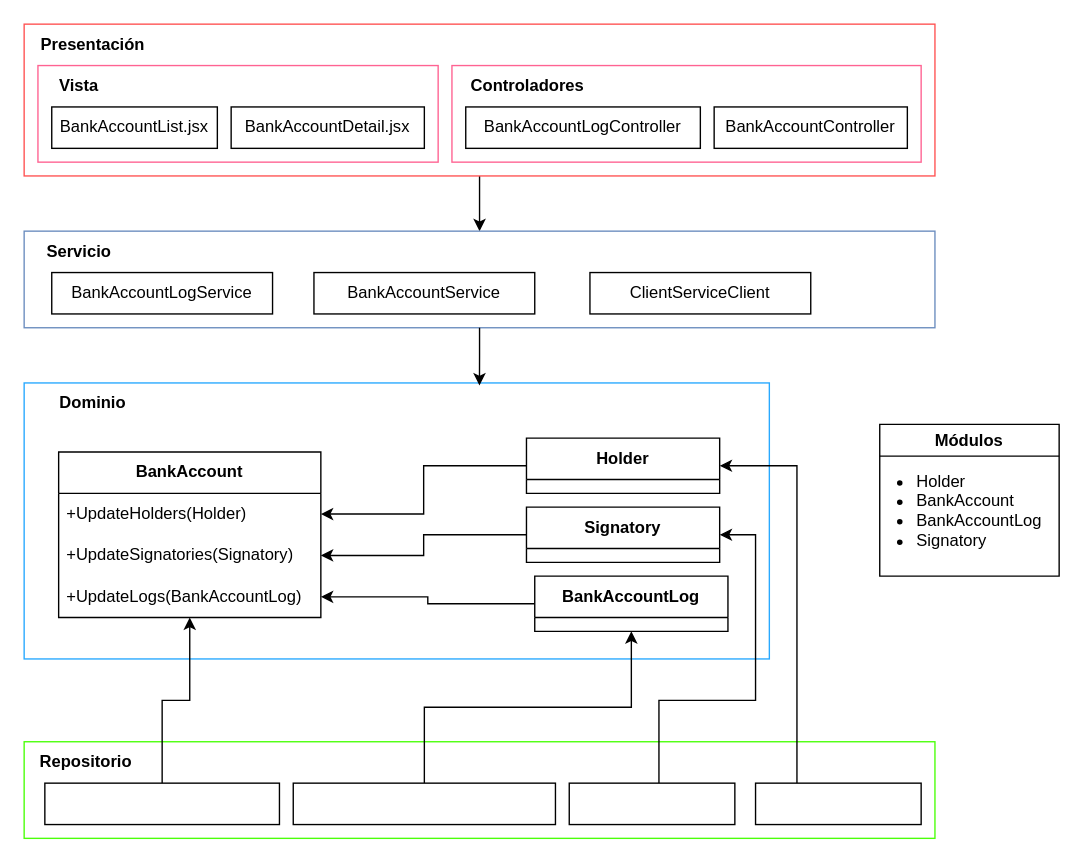
This 1083x863 diagram has some shape labels left out. Each missing label, with the centre of its shape:
"BankAccountLogRepository" belongs at (x=423, y=803).
"BankAccountRepository" belongs at (x=161, y=803).
"HolderRepository" belongs at (x=837, y=803).
"SignatoryRepository" belongs at (x=651, y=803).
